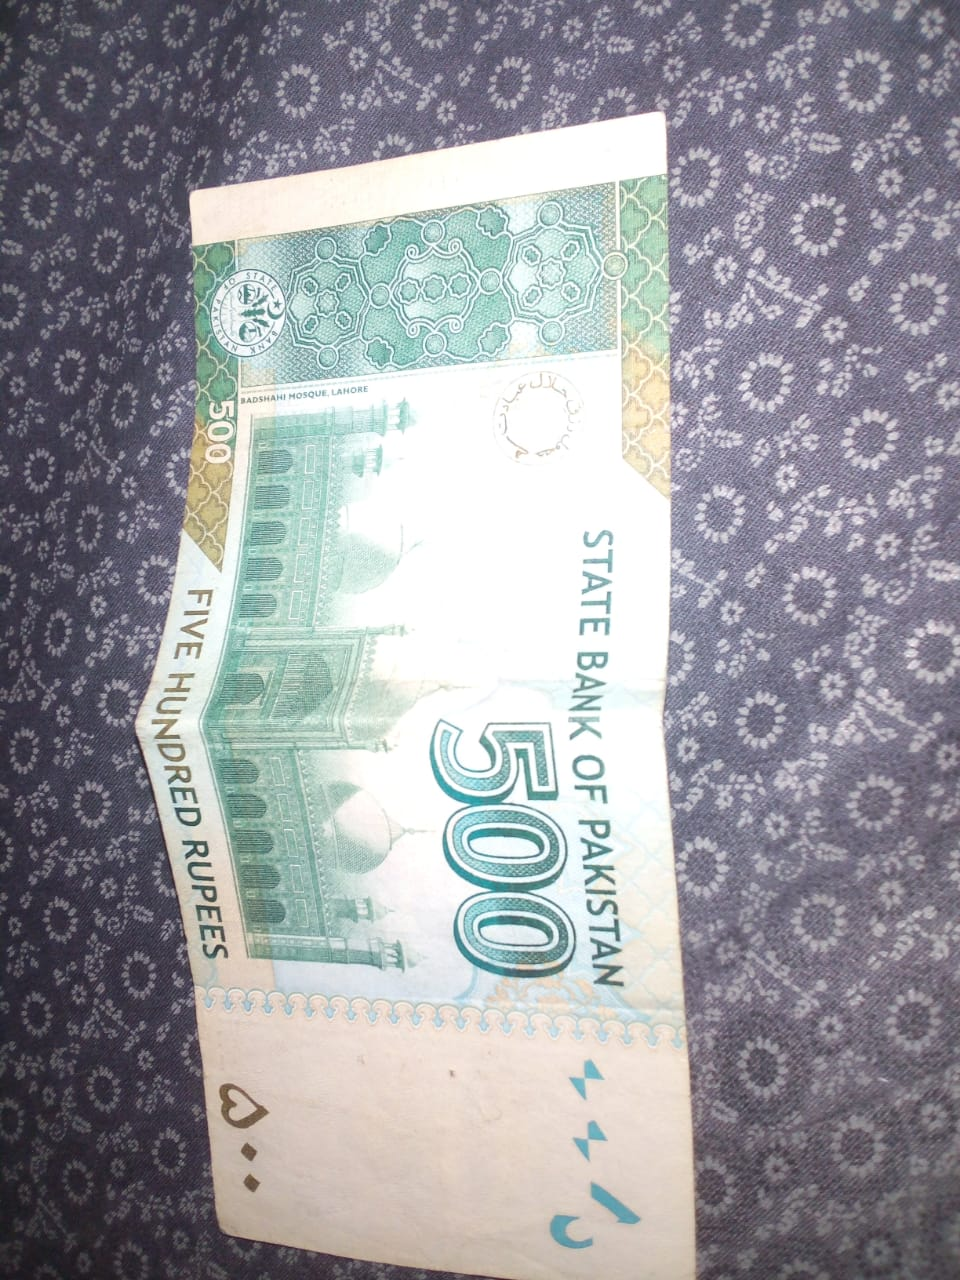500 rupee: (121, 144, 711, 1277)
